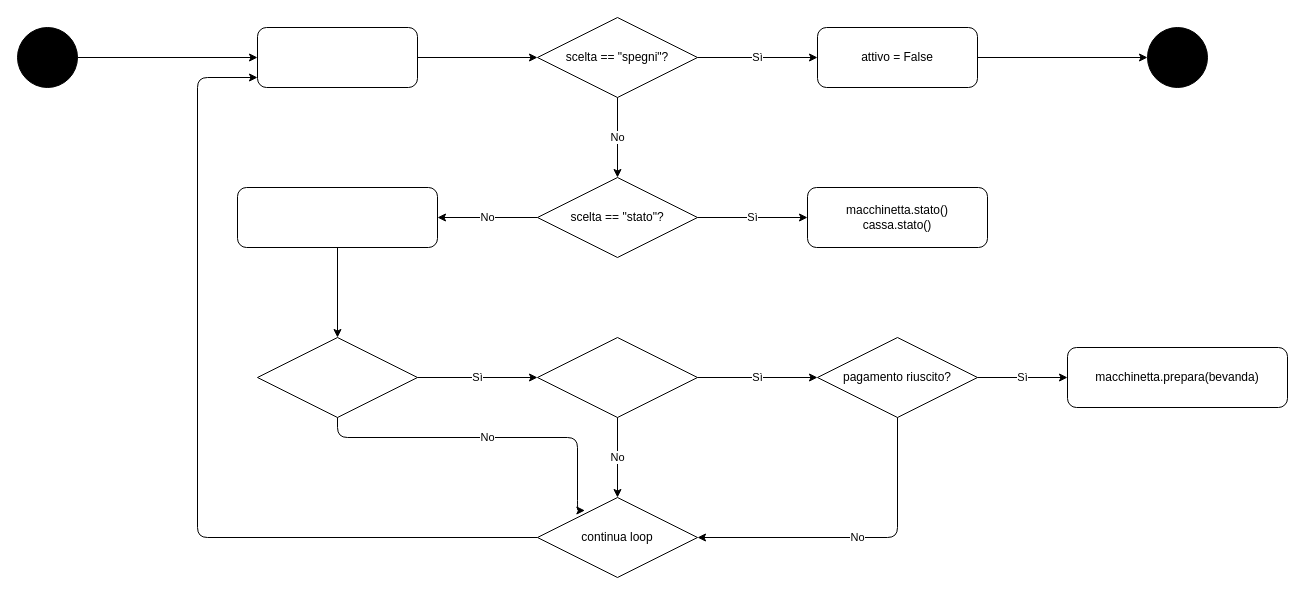
The diagram is 1305 pixels wide and 595 high, and some of its shapes have lost their labels. The centre of each missing label's shape, as x and y in pixels:
"bevanda = catalogo.cerca(scelta)" belongs at [337,217].
"bevanda trovata?" belongs at [337,377].
"Richiedi scelta (menu/lista_nomi)" belongs at [337,57].
"scorte sufficienti?" belongs at [617,377].
